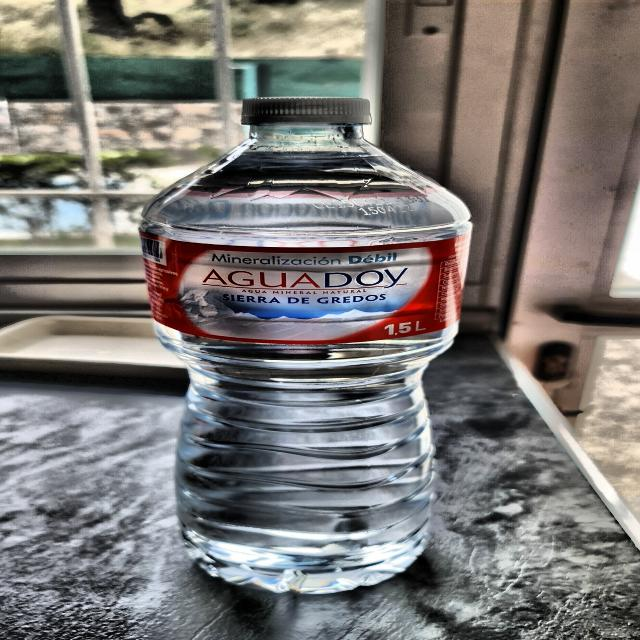plastic bottle: (138, 96, 470, 595)
